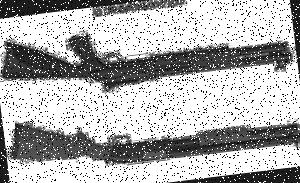shotgun: (0, 30, 298, 94), (5, 115, 300, 172)
